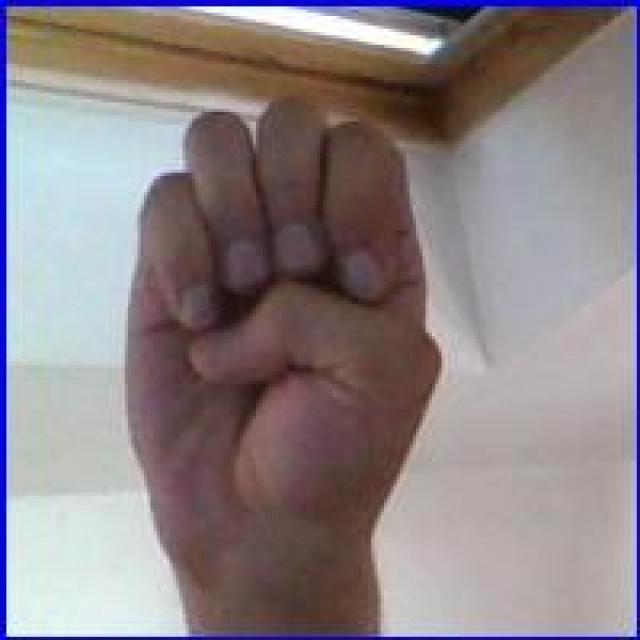E: (120, 88, 446, 619)
